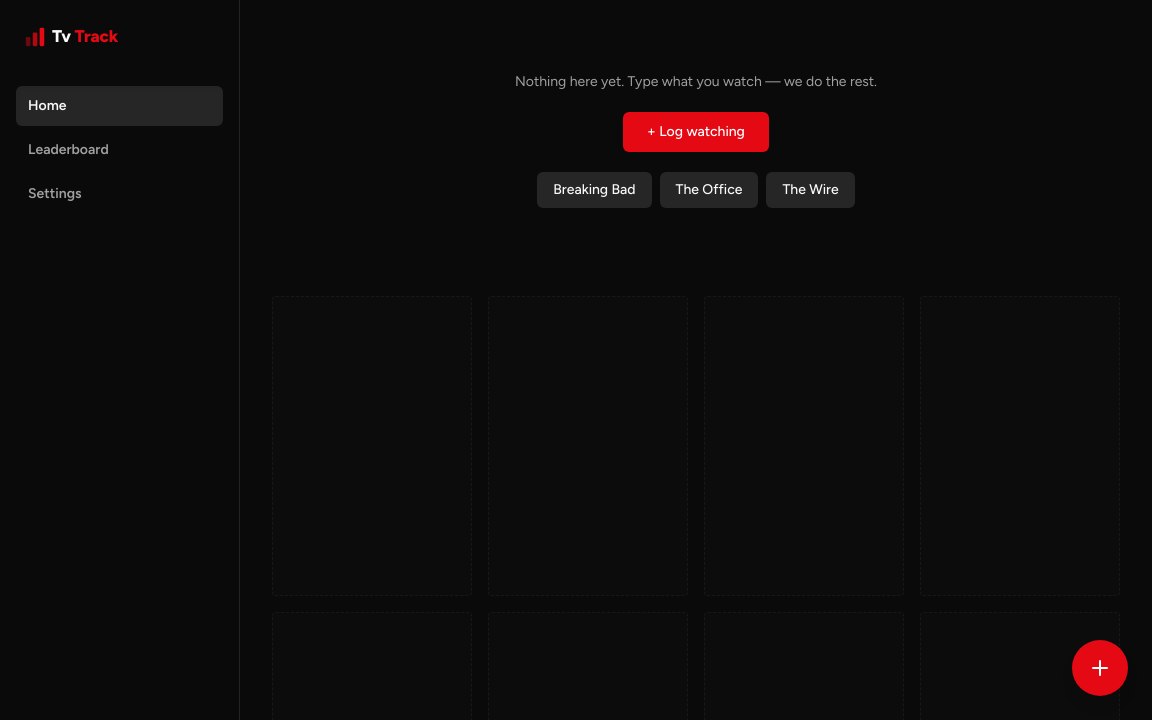
Test case: Home — parse choreography (#12): pending-parse state lifted from the palette onto PosterGrid › clears the skeleton without landing anything when a parse resolves nothing (e.g. fully unmatched)
Expected: the text "Nothing here yet. Type what you watch — we do the rest." is shown, [515,72,877,92]
Click the button named "Log watching" at coordinates (1100, 668), box [1072,640,1128,696]
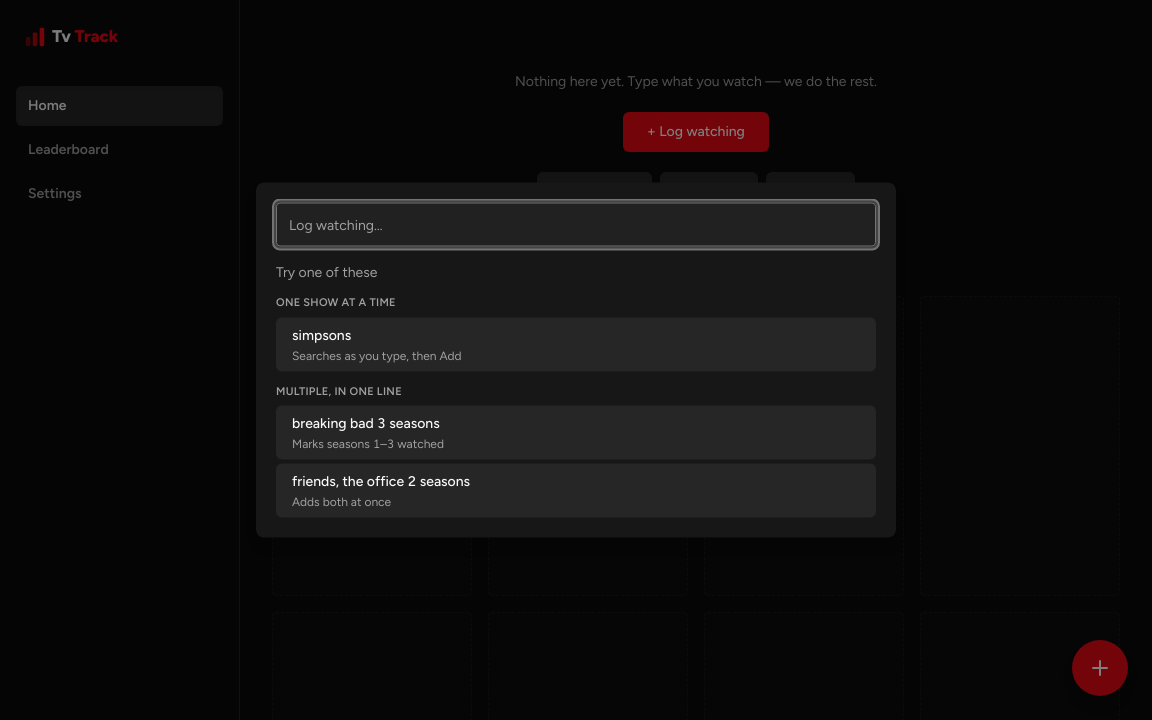
Type "xzyabc 2 seasons" into the field named "search for a show" at coordinates (576, 224), box [276,202,876,246]
Then press Enter
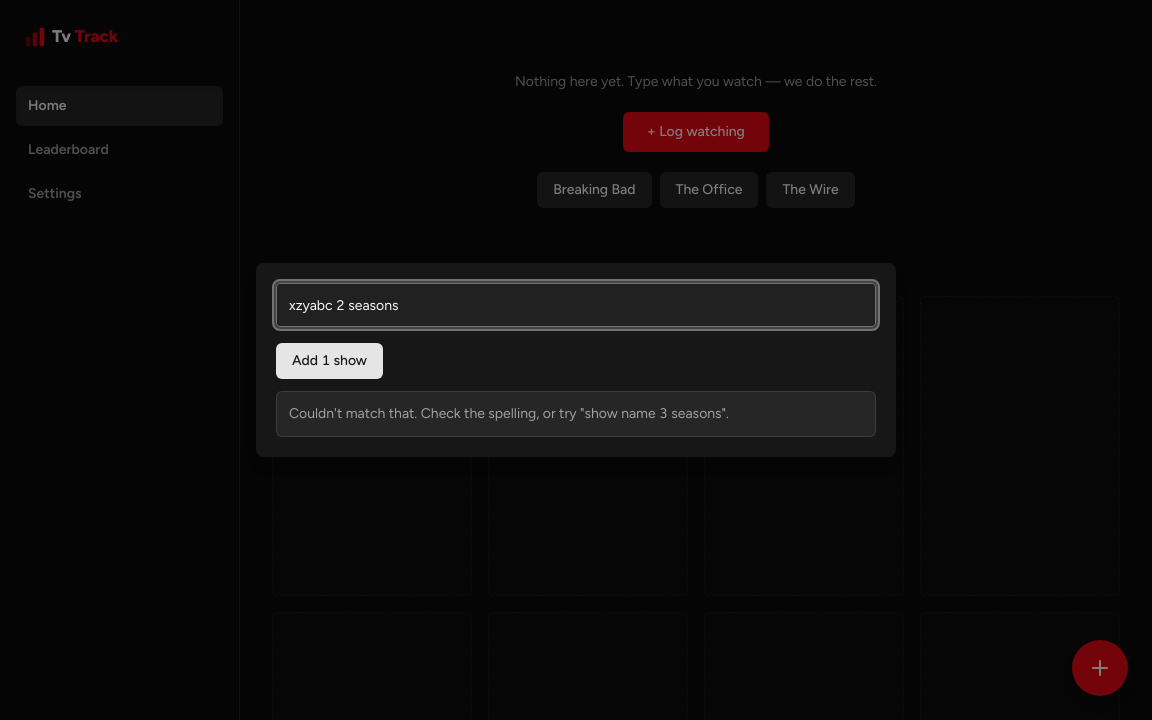
Now the message "Couldn't match that. Check the spelling, or try \"show name 3 seasons\"." is shown, box [276,391,876,437]
